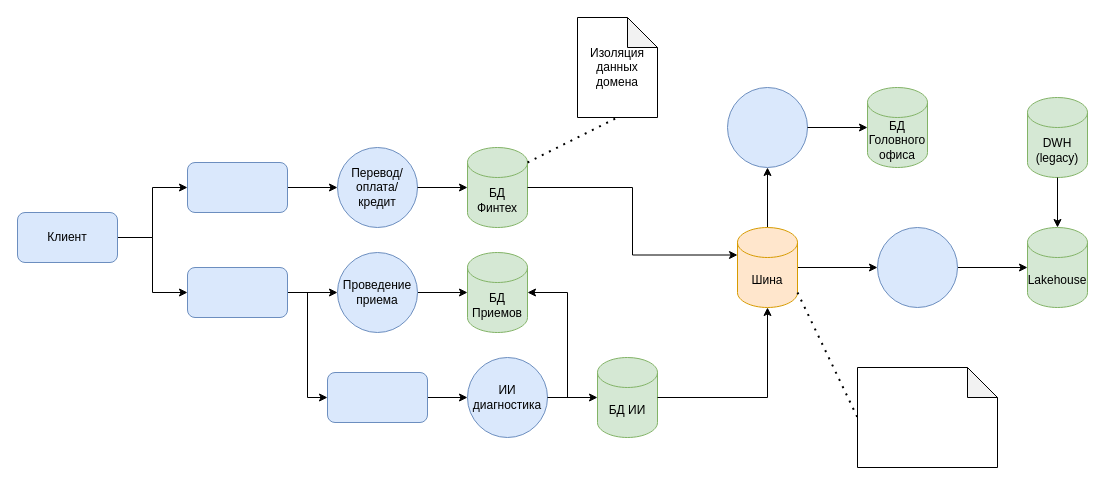
Image size: 1105x485. Some labels were removed from this diagram. The shapes that lost their labels are listed below. From the top down, each one's box as (x1, y1, x2, y2) in pixels, then its label:
(726, 86, 808, 168): Управление клиниками и т.д.
(186, 162, 288, 212): Менеджер банка
(876, 226, 958, 308): Аналитика, модели
(186, 266, 288, 318): Врач
(326, 372, 428, 422): LLM-агент
(856, 366, 998, 468): Централизация общих данных
